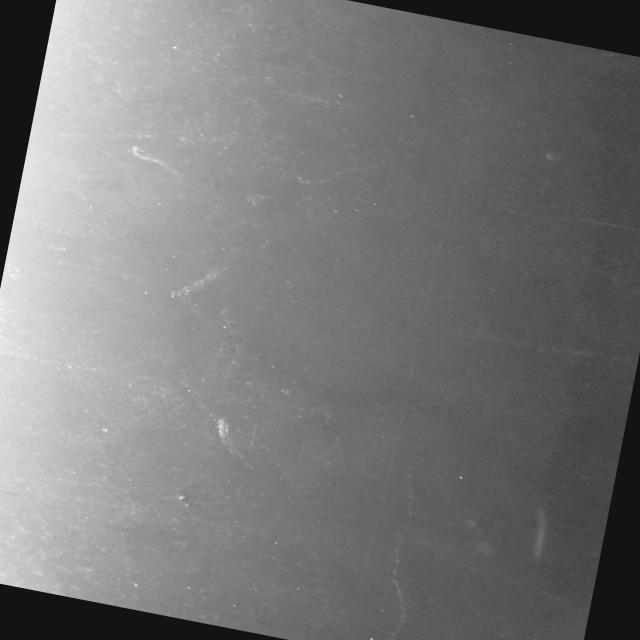beta: (40, 88, 288, 182), (327, 440, 441, 640), (441, 318, 639, 373), (465, 191, 640, 244), (0, 453, 120, 508), (296, 138, 400, 200), (0, 342, 133, 379), (126, 143, 188, 178), (525, 582, 573, 606)
